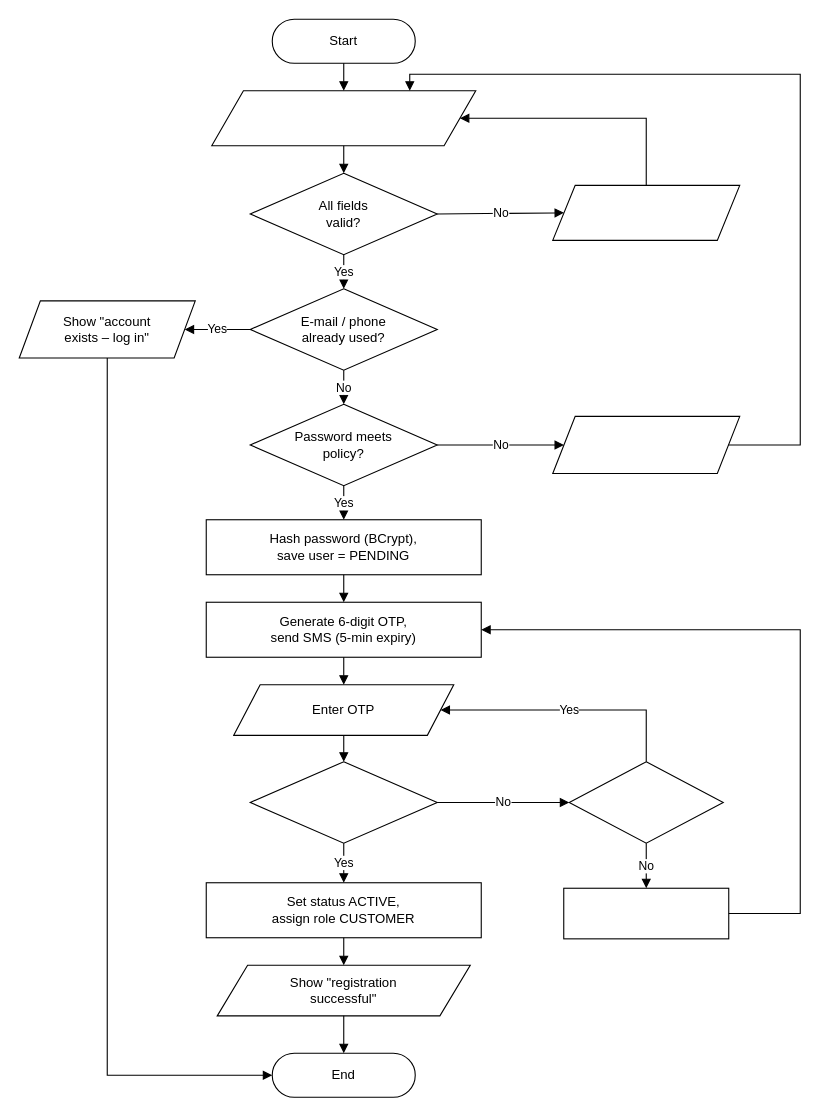
This 828x1117 diagram has some shape labels left out. Each missing label, with the centre of its shape:
"Attempts < 3?" belongs at [645,802].
"Enter name, e-mail, phone and password" belongs at [343,118].
"OTP correct & not expired?" belongs at [343,802].
"Resend new OTP" belongs at [646,913].
"Show field errors" belongs at [646,212].
"Show password rules" belongs at [646,444].
